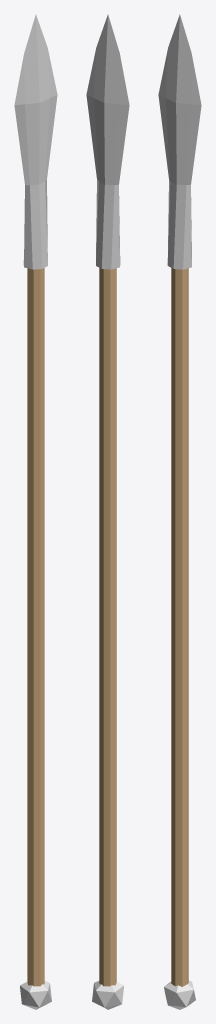
Rendered from spear.fbx.
3 renders of one model, left to right at view 1: azimuth 30°, elevation 25°; view 2: azimuth 150°, elevation 25°; view 3: azimuth 330°, elevation 25°, orthographic.
Visible parts, largest first — view 1: Cylinder.001, Cube, Icosphere; view 2: Cylinder.001, Cube, Icosphere; view 3: Cylinder.001, Cube, Icosphere.
Boxes of the visible parts, x1,y1,x2,y2 form: Cylinder.001: (27, 268, 44, 986); Cube: (14, 14, 57, 269); Icosphere: (20, 981, 51, 1009); Cylinder.001: (99, 268, 116, 986); Cube: (86, 14, 129, 269); Icosphere: (92, 981, 124, 1009); Cylinder.001: (171, 268, 188, 986); Cube: (158, 14, 201, 269); Icosphere: (164, 980, 195, 1009).
Size of the model in its own units: 54.97 by 1212 by 34.03.
